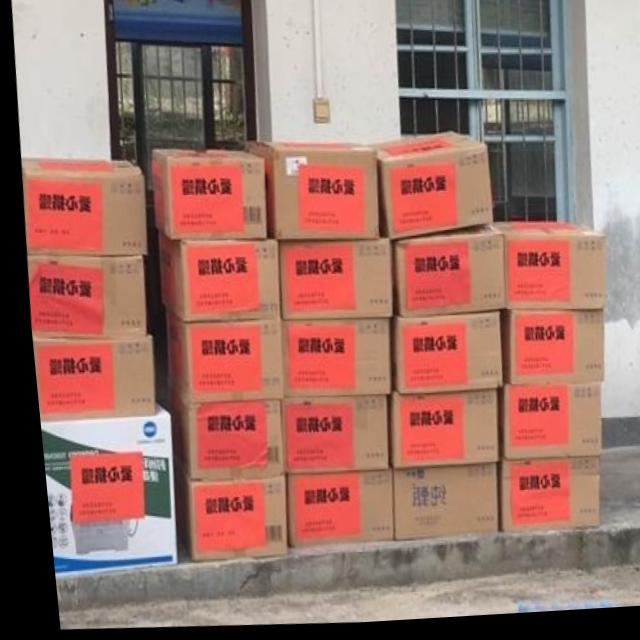box: (32, 402, 163, 575), (358, 134, 487, 245), (240, 144, 373, 243), (19, 158, 141, 255), (154, 381, 273, 480), (163, 463, 276, 561), (152, 233, 273, 323), (26, 332, 146, 421), (158, 311, 274, 402), (483, 226, 600, 315), (385, 229, 498, 321), (149, 152, 261, 242), (23, 253, 138, 337), (383, 317, 494, 399), (273, 243, 385, 323), (378, 393, 488, 472), (487, 387, 594, 465), (486, 458, 589, 536), (275, 323, 382, 397), (276, 474, 382, 548), (276, 401, 380, 475), (383, 470, 487, 544), (492, 315, 596, 388)
